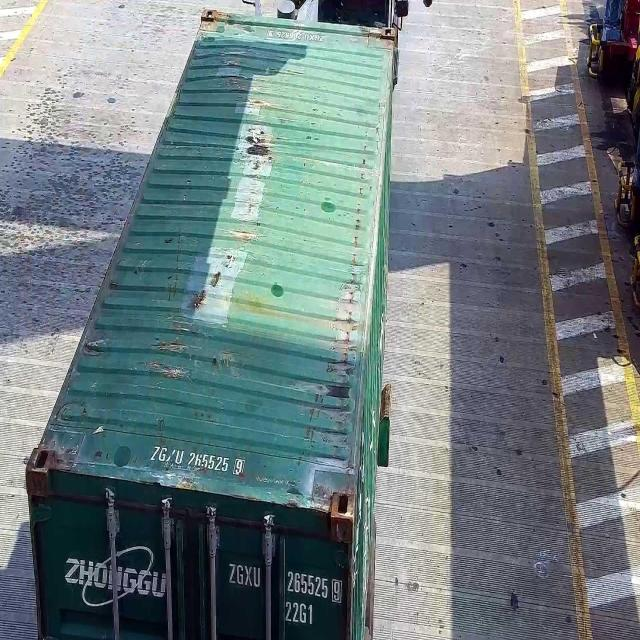dent: (214, 123, 340, 182)
